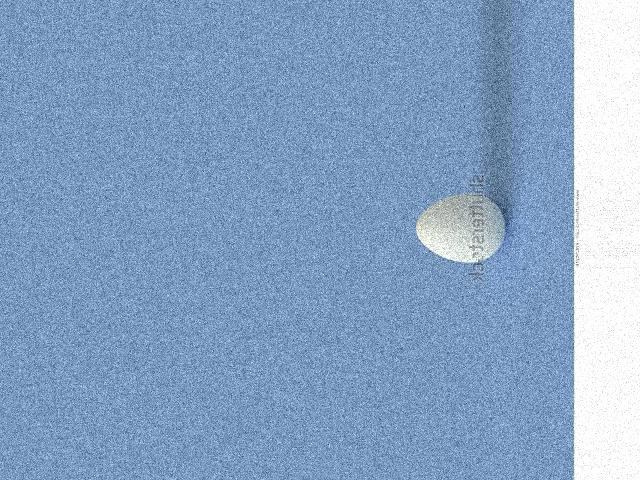egg: (416, 193, 506, 263)
